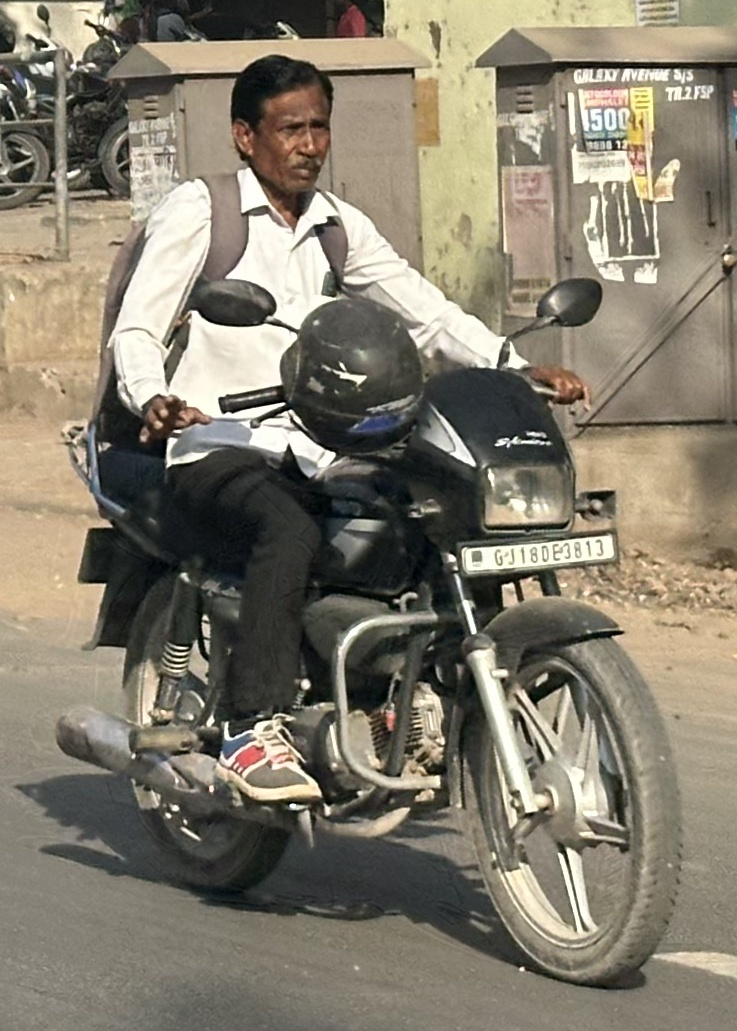BikeWithRider: (61, 34, 716, 997)
NoHelmet: (215, 45, 365, 210)
